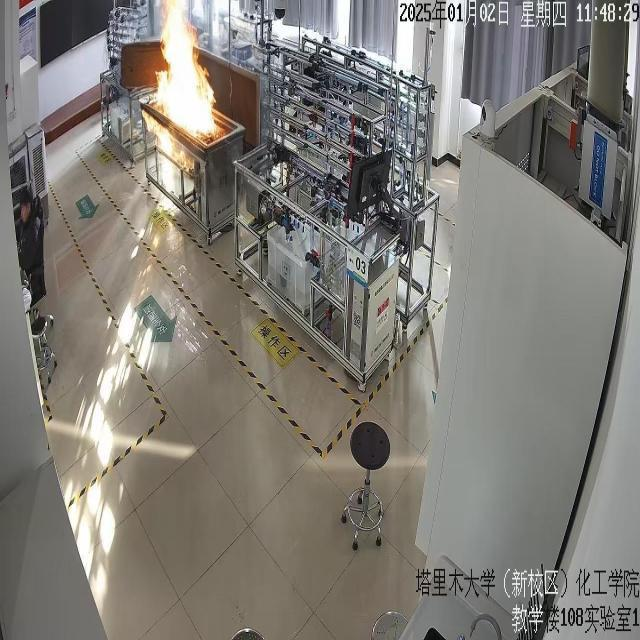smoke: (151, 2, 219, 141)
